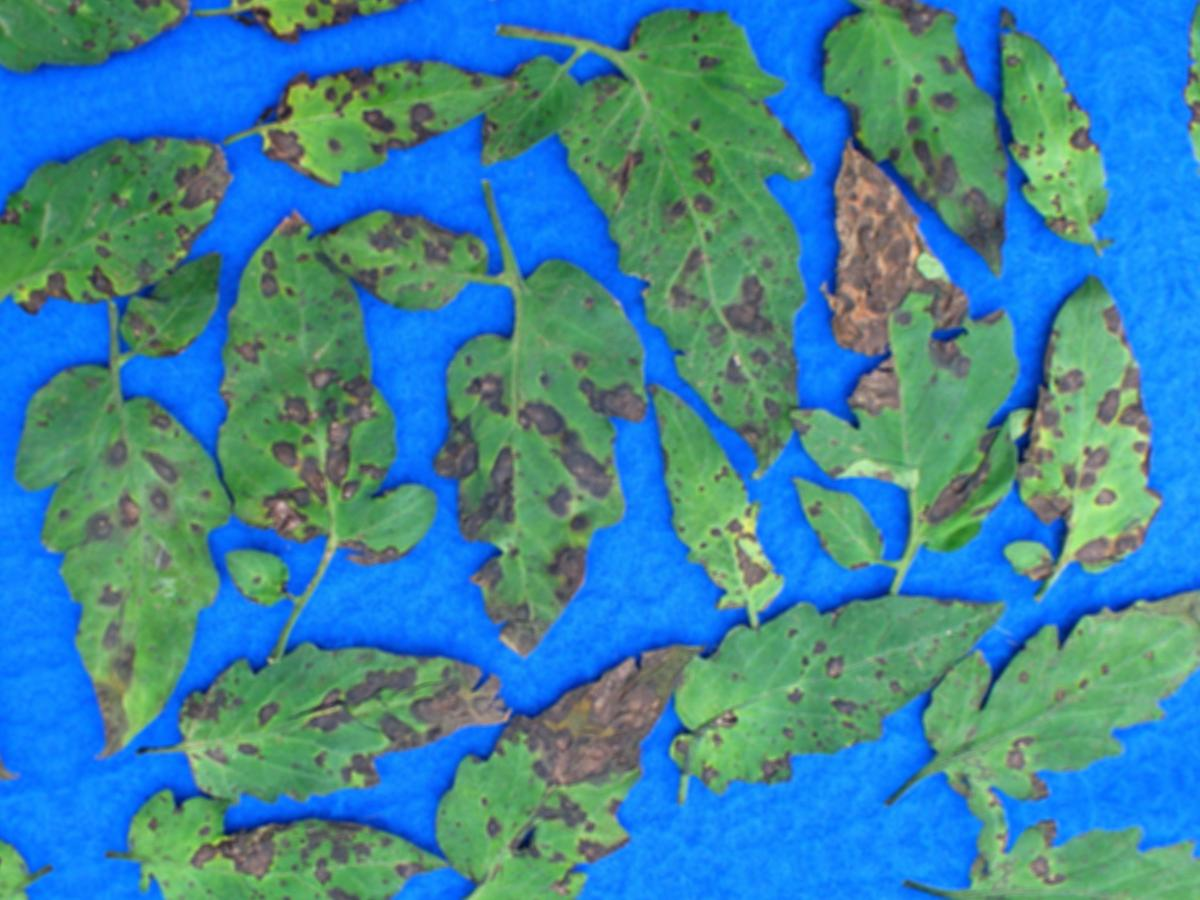Tomato Early blight leaf: (519, 0, 871, 538), (396, 239, 695, 661), (0, 333, 268, 770), (173, 181, 443, 583), (402, 633, 758, 900), (163, 597, 531, 824), (635, 568, 1009, 785), (888, 561, 1200, 818), (974, 263, 1184, 610), (799, 0, 1034, 302), (211, 18, 530, 201), (0, 119, 257, 346), (112, 744, 448, 900), (952, 0, 1127, 272), (637, 361, 798, 636), (777, 442, 910, 598), (108, 254, 233, 372)
